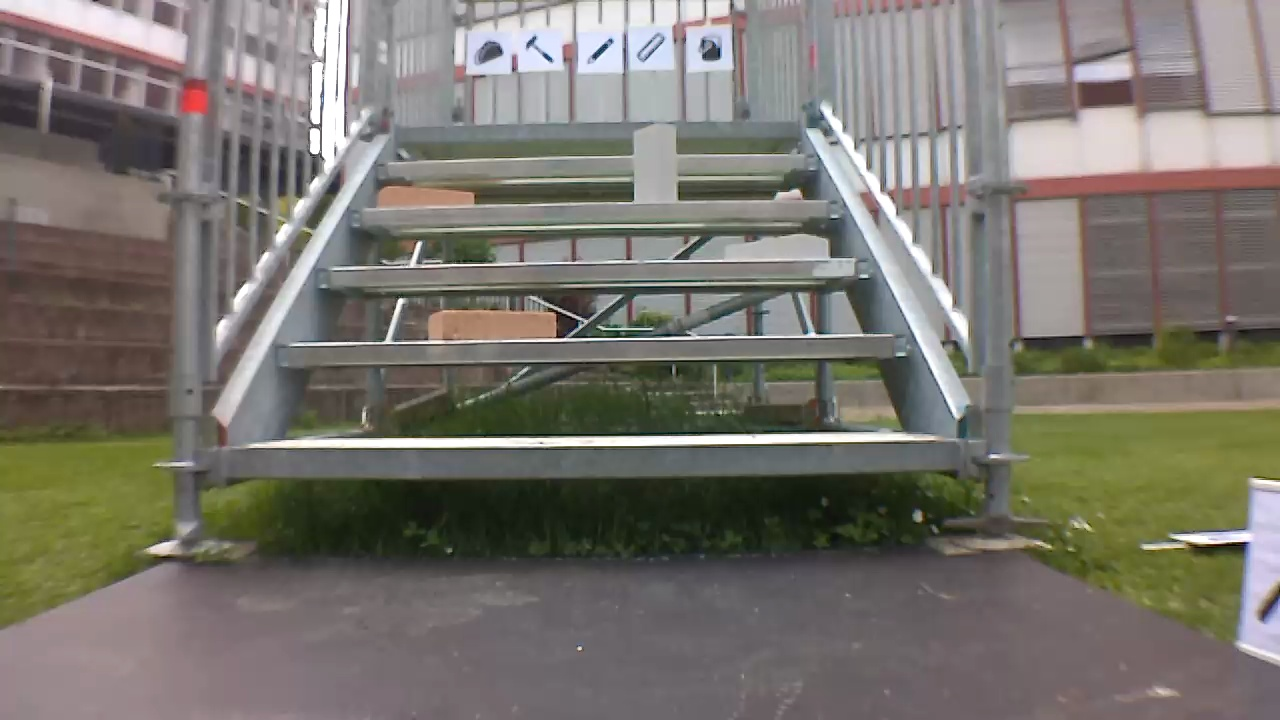brick: (425, 309, 555, 339), (633, 124, 676, 202), (725, 233, 828, 260), (379, 186, 473, 207)
bucket: (692, 29, 727, 68)
edge: (229, 439, 955, 480), (279, 334, 911, 364), (319, 258, 871, 285), (349, 199, 841, 222), (392, 115, 802, 138), (378, 154, 819, 174)
hammer: (518, 30, 556, 65)
pencil: (580, 33, 618, 69)
ruler: (634, 27, 668, 65)
stairs: (165, 2, 1040, 552)
steps: (218, 117, 959, 479)
taco: (473, 33, 507, 66)
